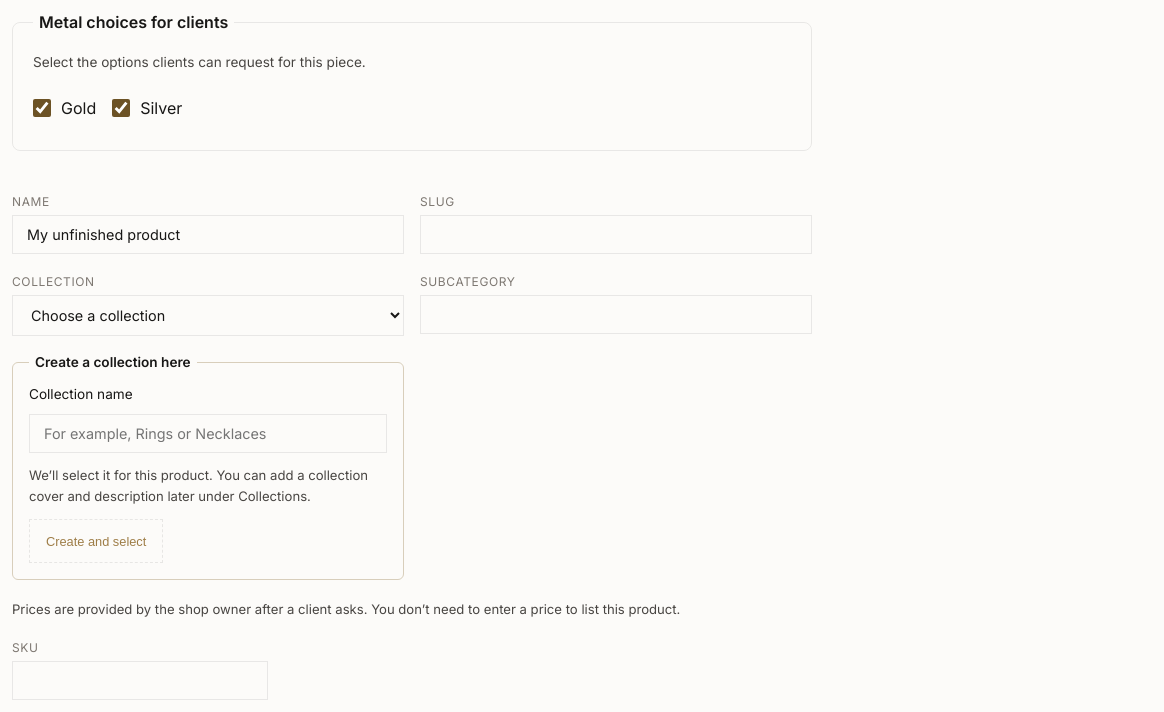
Scenario: Inline collection creation › keeps entered details when collection creation fails
In the field labelled "Collection name": (208, 434) [29,414,387,453], type "Rings"
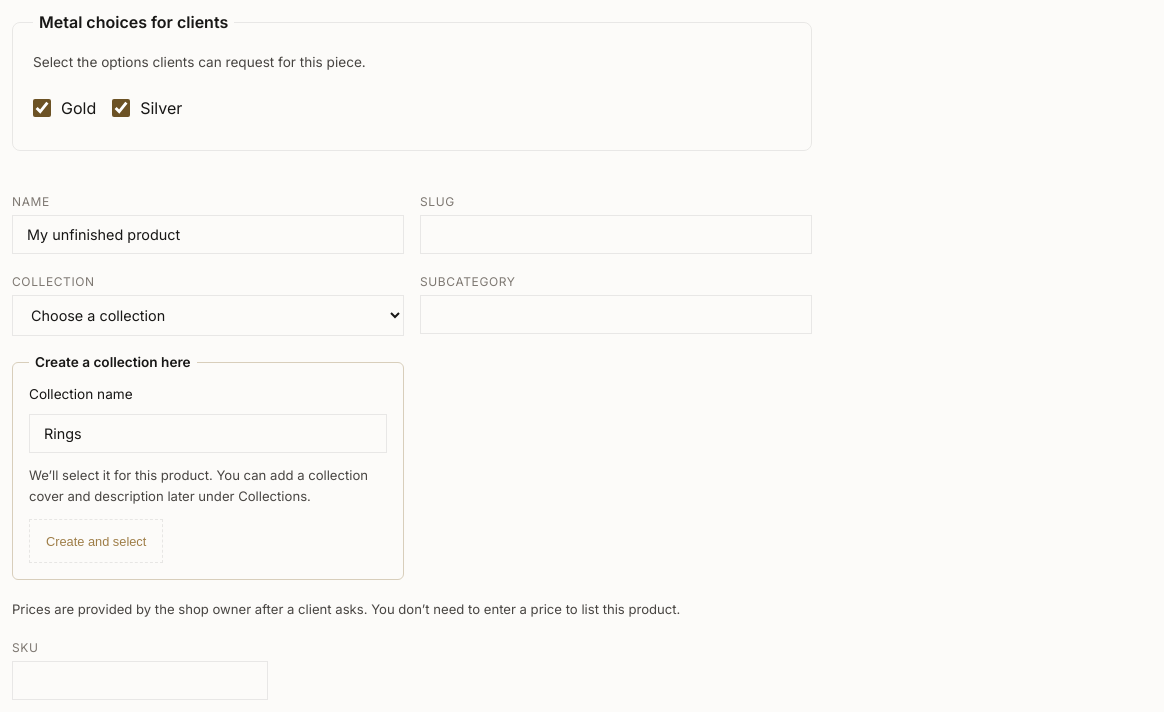
Click the button "Create and select": (96, 541) [29,519,163,563]
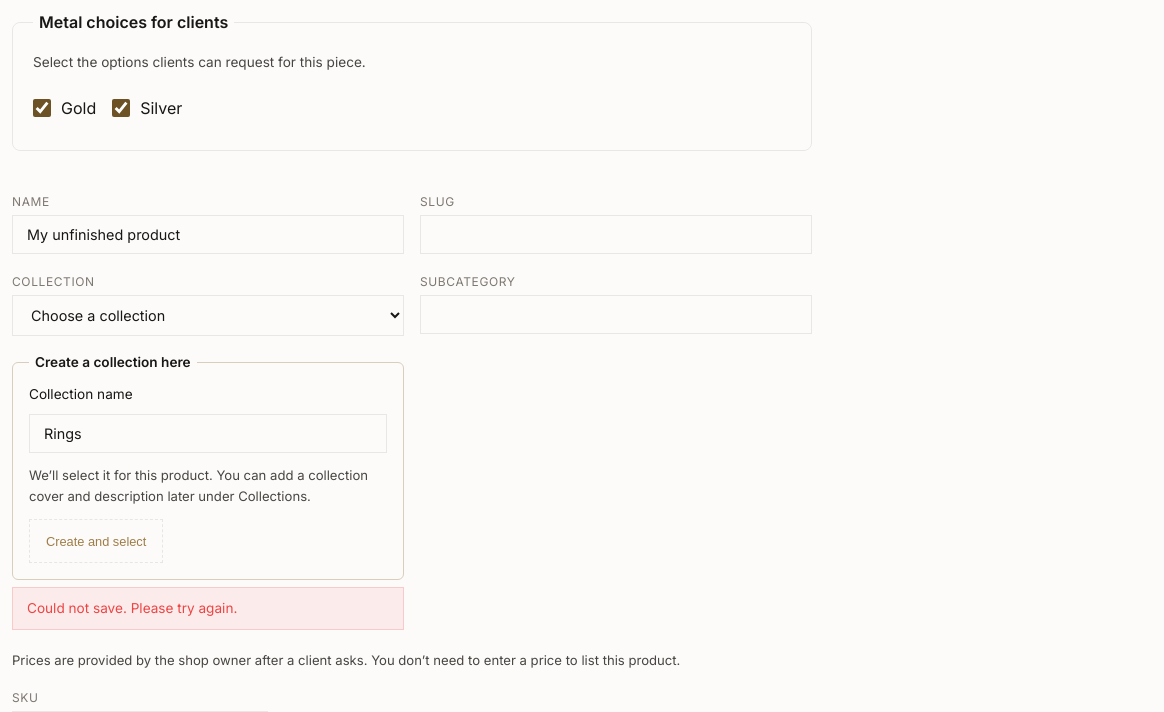
Check: the 1st field showing "My unfinished product" is shown, box [12,215,404,254]
Check: the message shows "Could not save", box [27,600,237,616]
